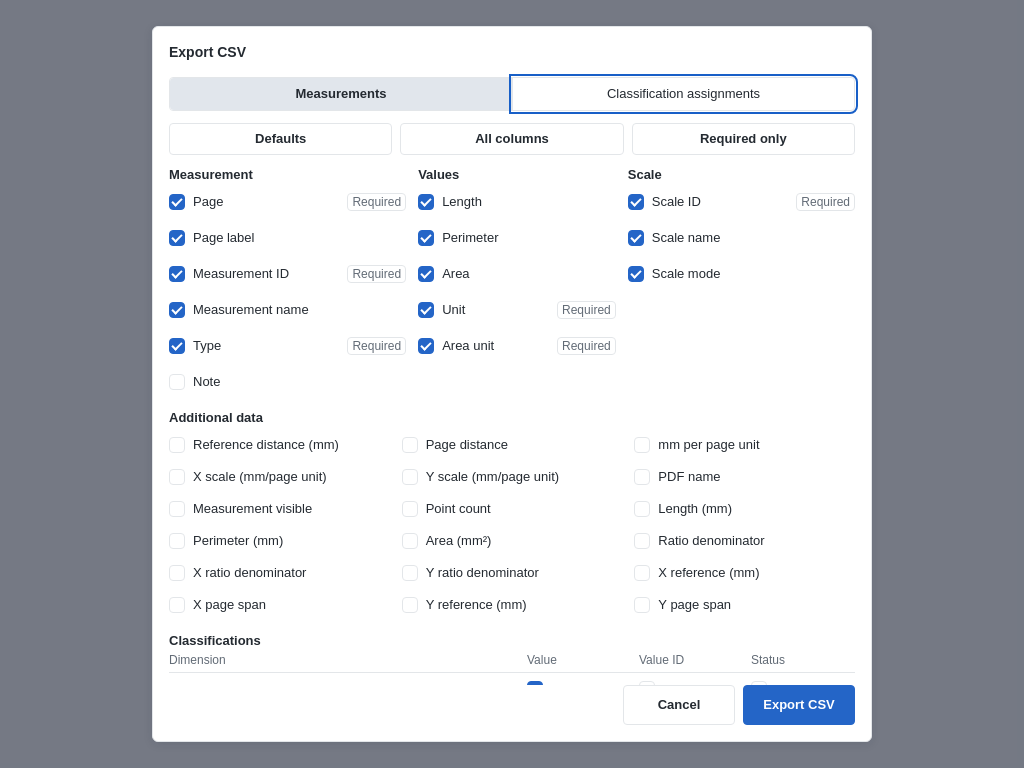
Test: CsvExportDialog › switches to Classification assignments and hides measurement presets and columns
Click the radio button labelled "Classification assignments" at coordinates (683, 94), box [512,78,854,110]
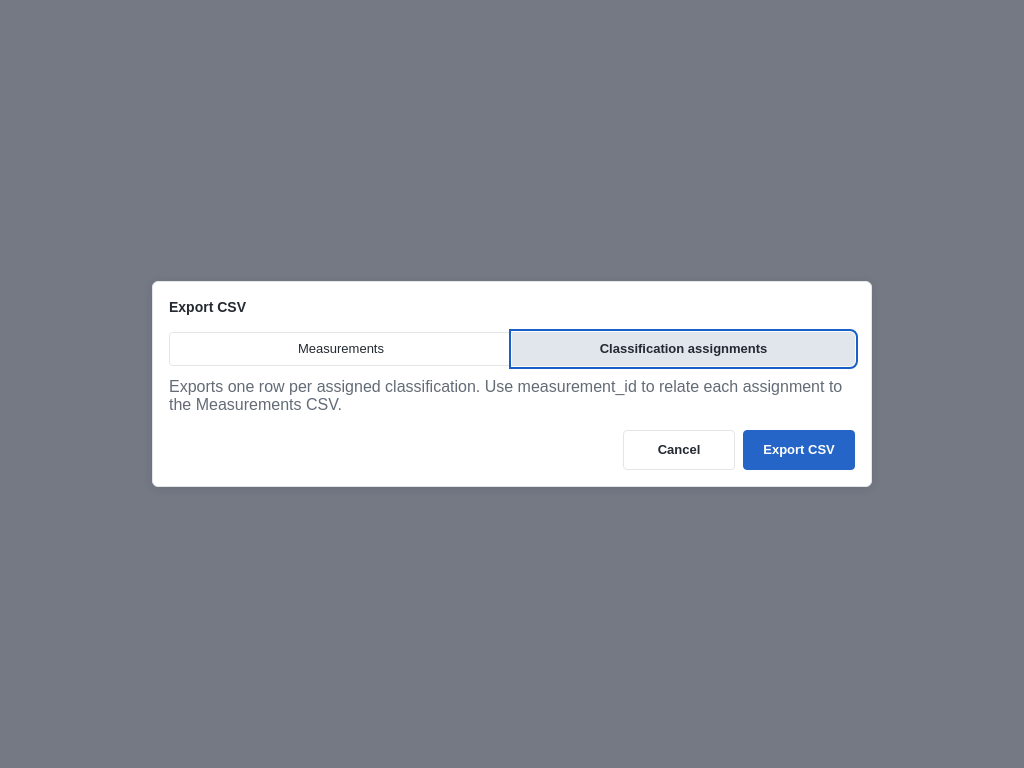
Result: the text "Measurement name" is gone
Result: the dialog shows "one row per assigned classification" at [169,378,842,413]
Result: the dialog shows "measurement_id" at [169,378,842,413]
